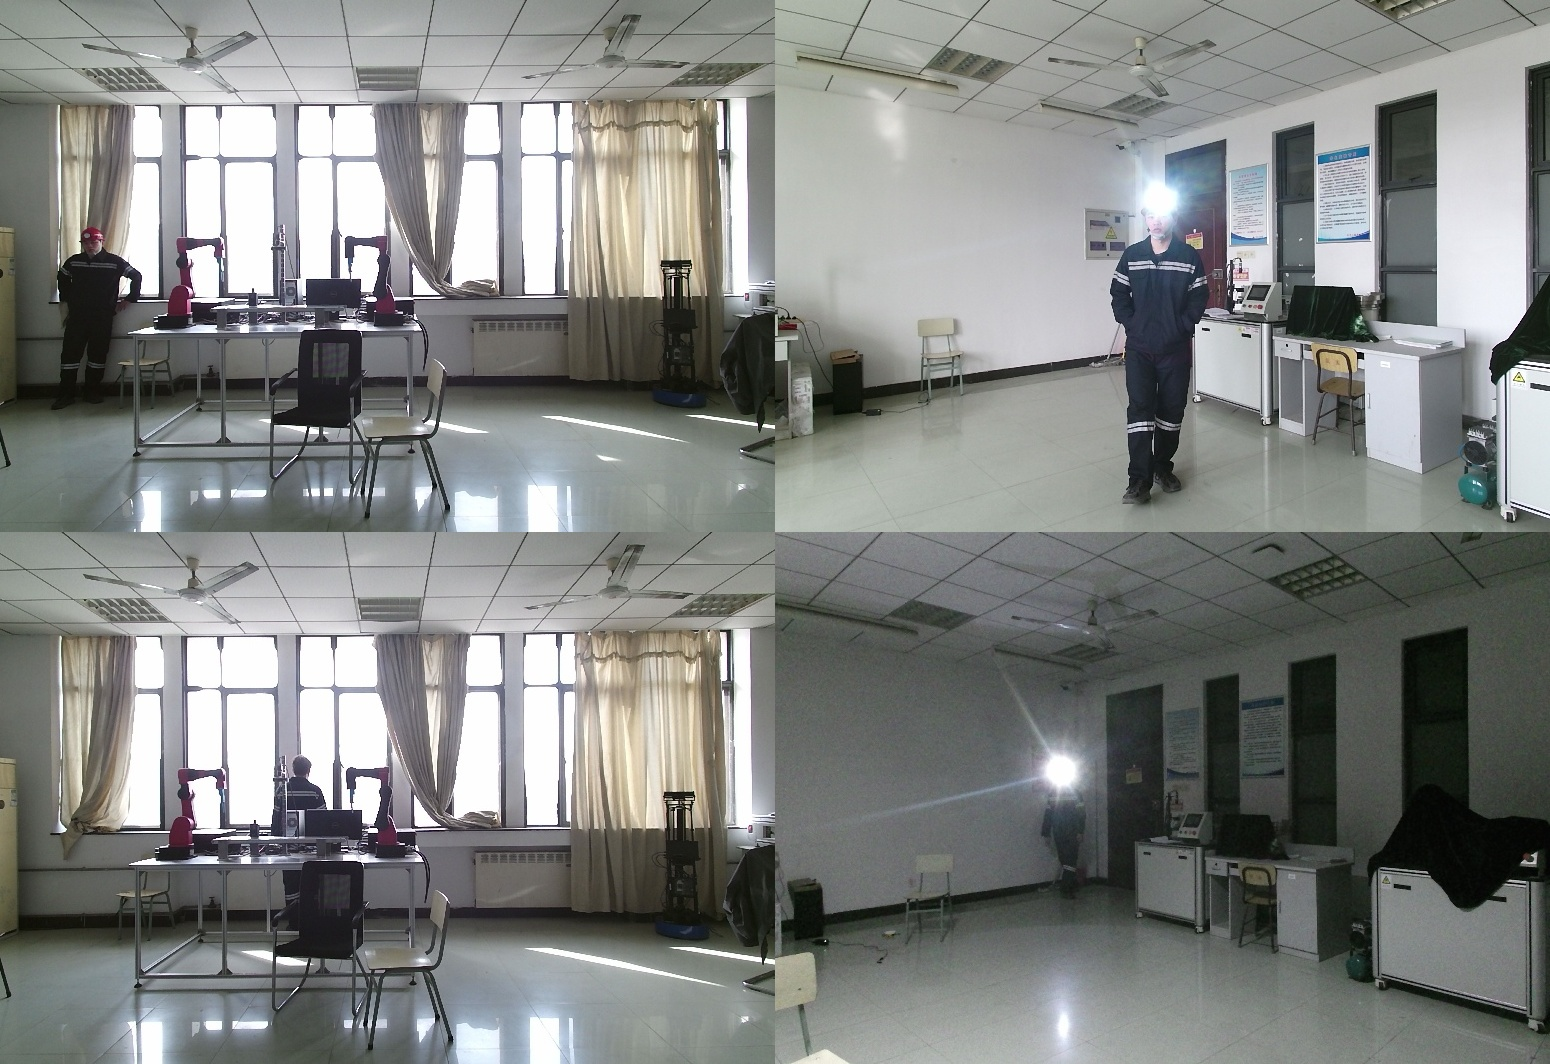person: (1113, 193, 1224, 503), (53, 226, 142, 404), (272, 756, 336, 954), (1041, 768, 1089, 898)
